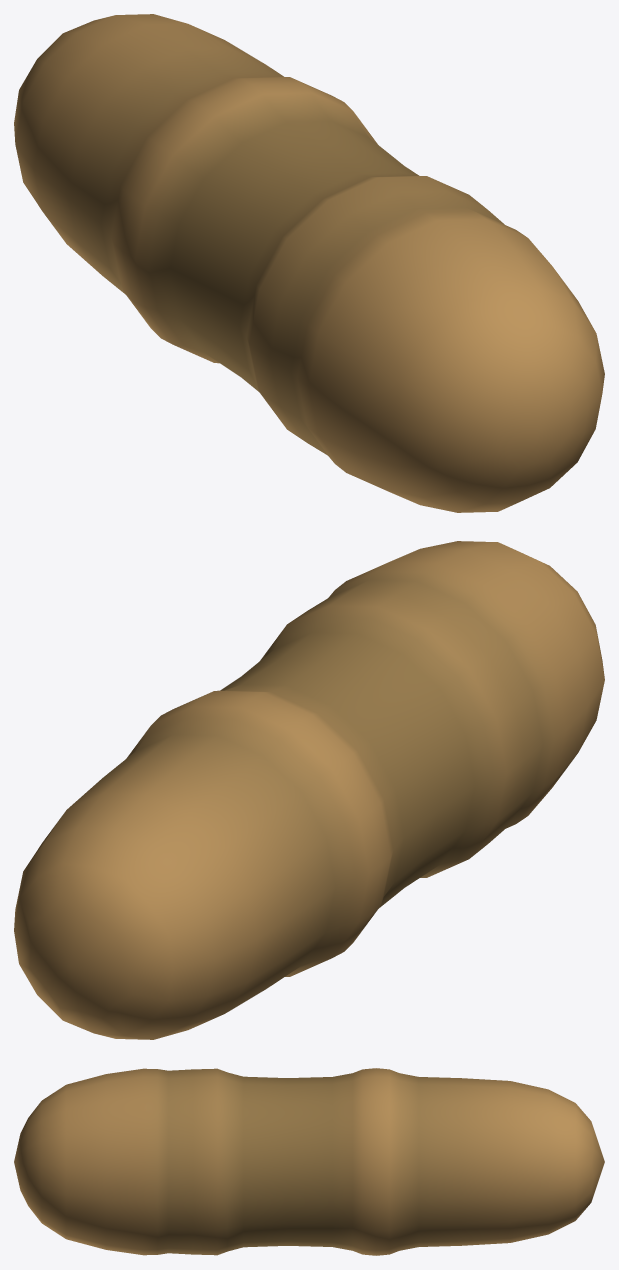
3 views of the same model, one above another, from view 1: azimuth 30°, elevation 25°; view 2: azimuth 150°, elevation 25°; view 3: azimuth 270°, elevation 25° (orthographic). The views are drawn at different scales.
Parts seen in each view (by area): view 1: alt3.172; view 2: alt3.172; view 3: alt3.172.
Part boxes in pixels (box(x1,y1,x2,y2)): alt3.172: box(14, 14, 604, 512); alt3.172: box(14, 541, 604, 1039); alt3.172: box(14, 1068, 604, 1255).
Size of the model in its own units: 0.1594 by 0.1594 by 0.5.
